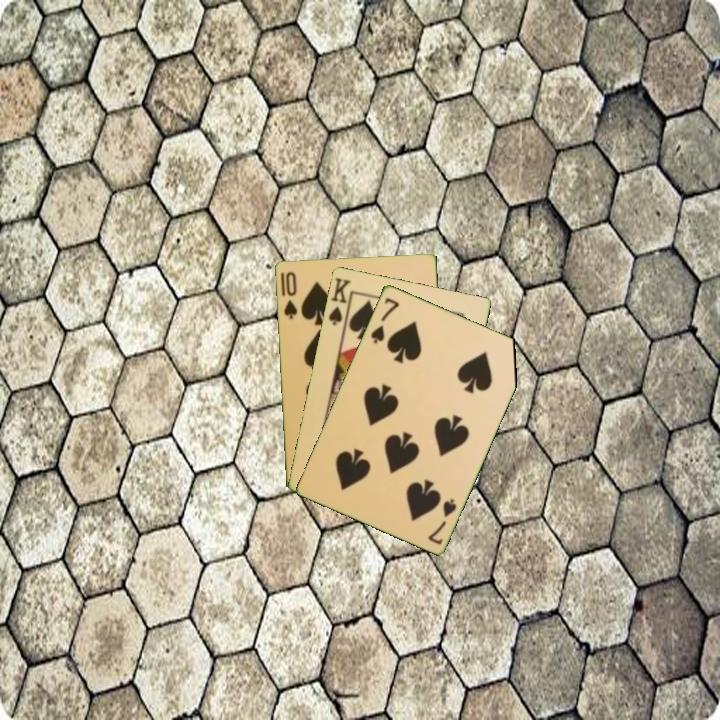10s: (280, 268, 300, 321)
7s: (367, 294, 402, 346), (424, 495, 459, 547)
Ks: (325, 274, 355, 331)
